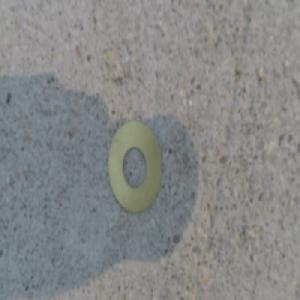Washer: (109, 120, 163, 215)
